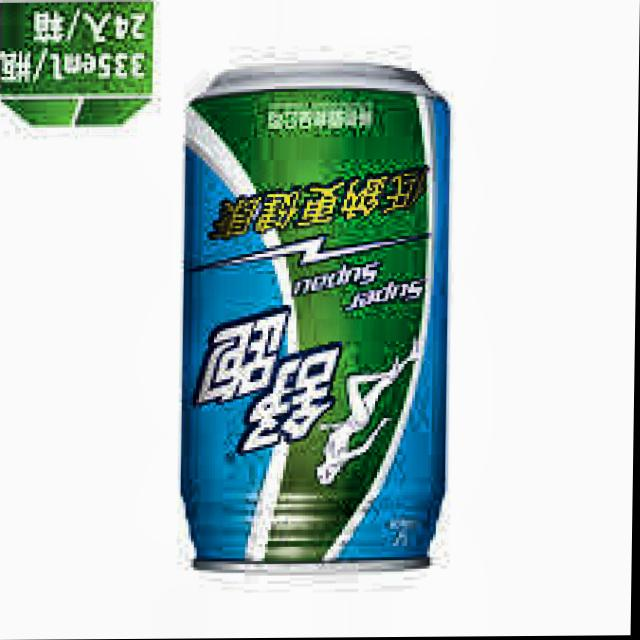can: (171, 50, 465, 589)
